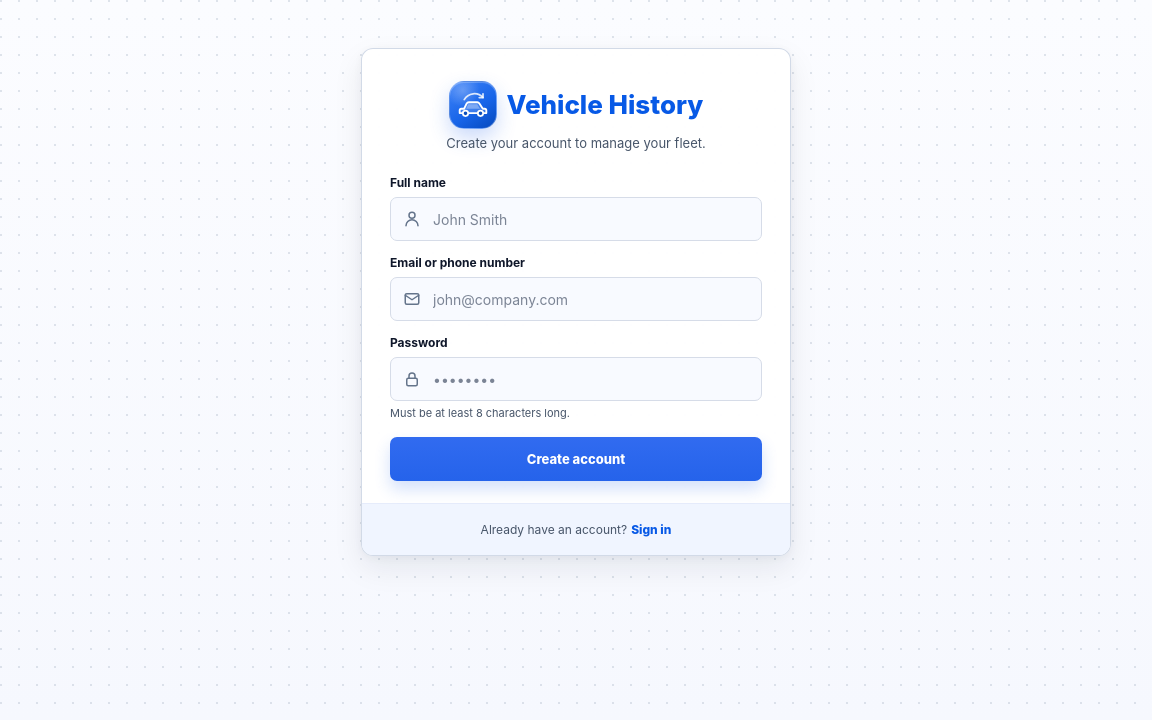
Test: RegisterPage › validates minimum password length
Type "Driver One" into the field labelled "Full name". click: (590,219)
box: left=431, top=198, right=749, bottom=240
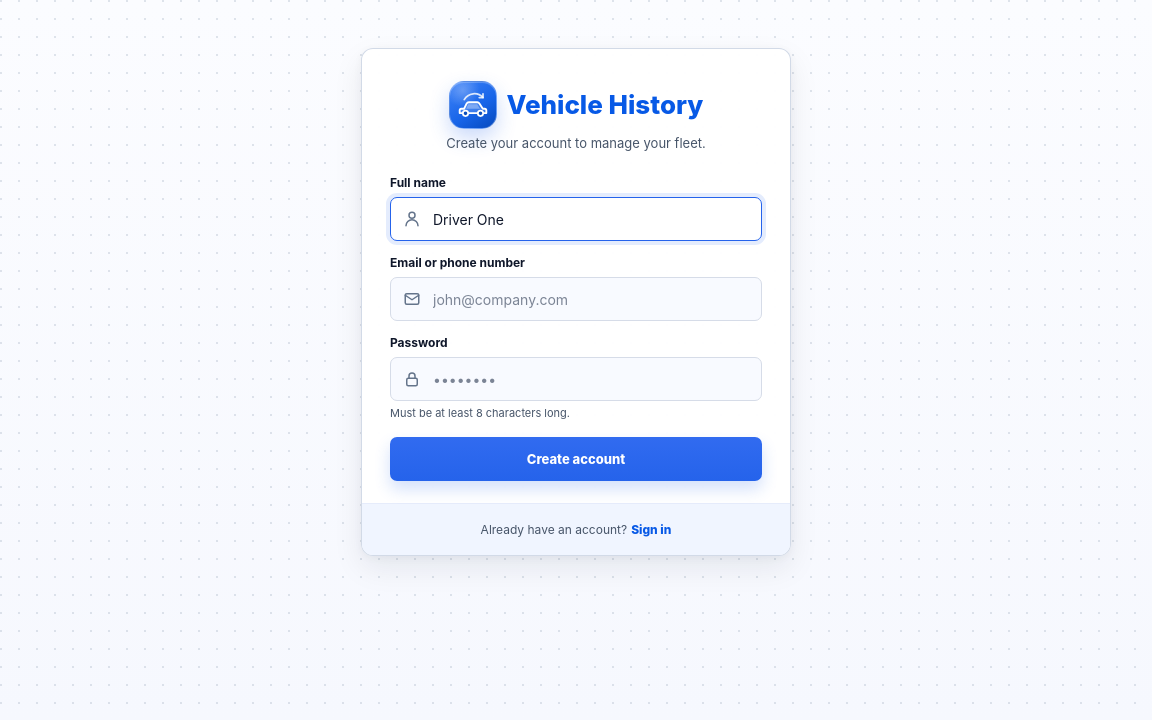
Type "driver@example.com" into the field labelled "Email or phone number". click: (590,299)
box: left=431, top=278, right=749, bottom=320
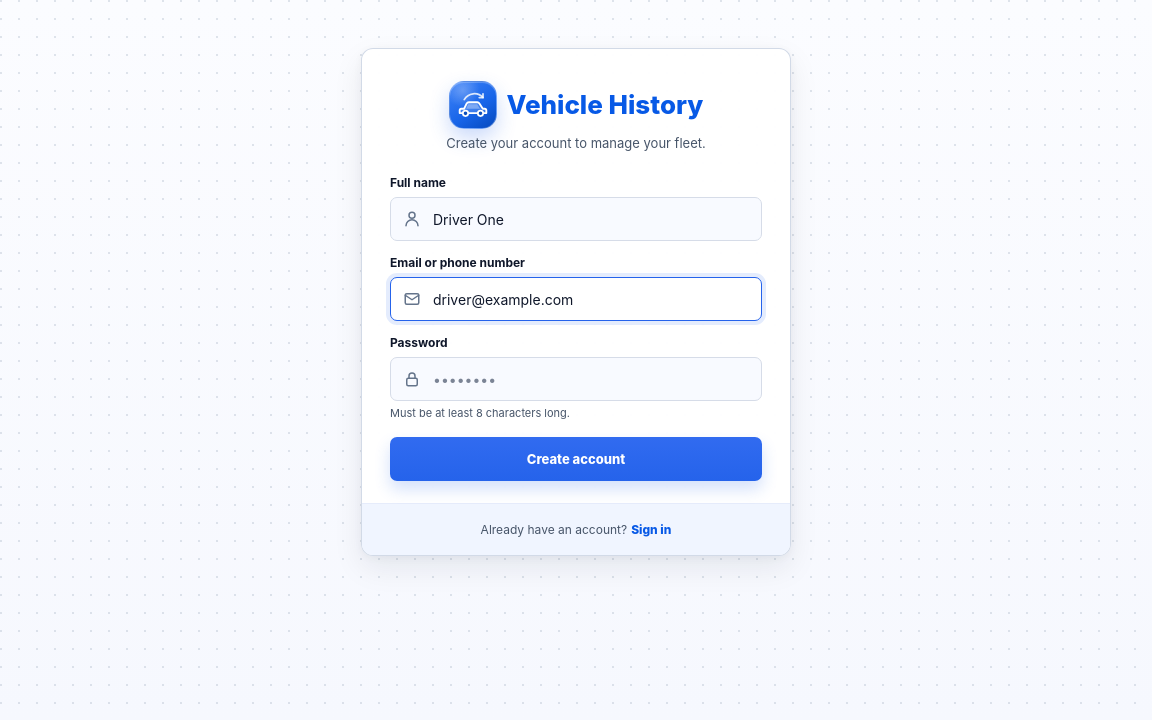
Type "1234567" into the password field labelled "Password". click: (590,379)
box: left=431, top=358, right=749, bottom=400
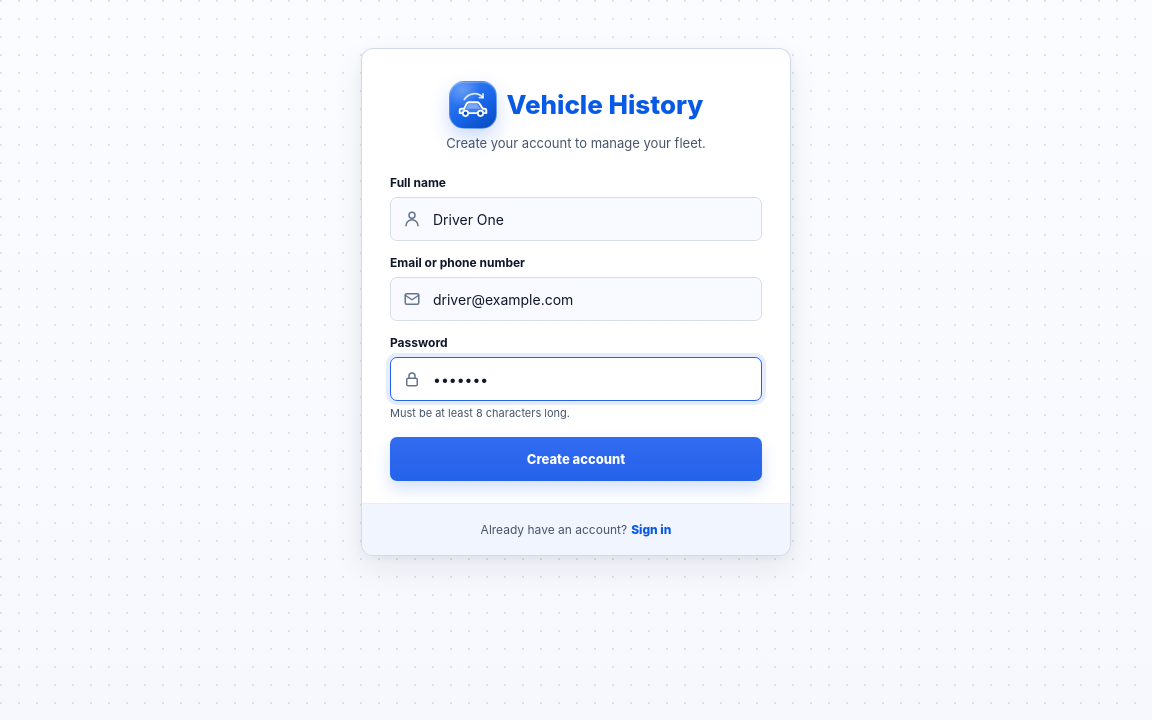
Click the button "Create account". click: (576,459)
box: left=390, top=437, right=762, bottom=481
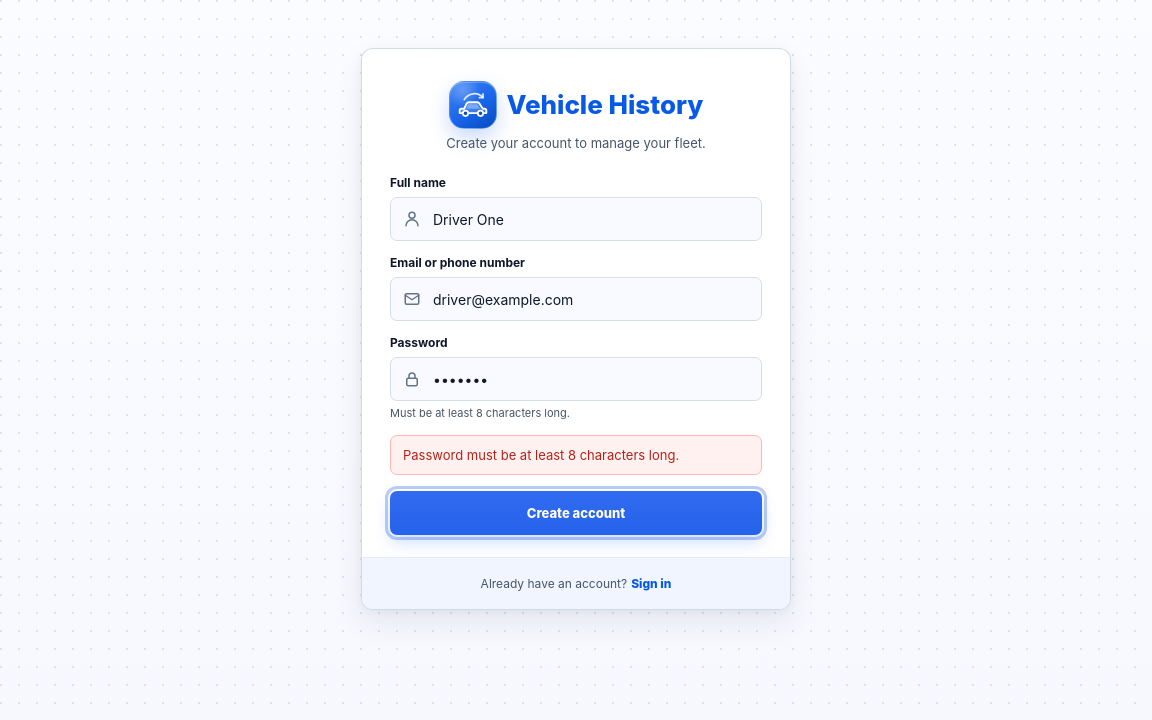
expect the message shows "Password must be at least 8 characters": met, box left=403, top=447, right=679, bottom=463
